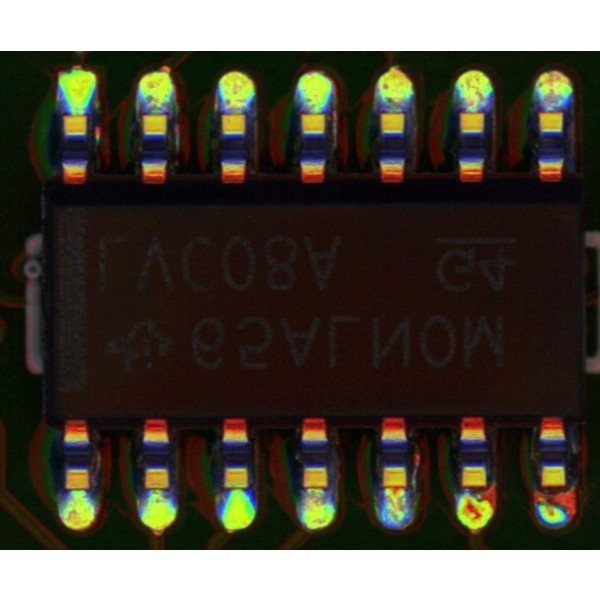Bad_podu: (385, 478, 406, 500)
